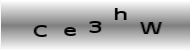3: (88, 19, 102, 33)
C: (33, 24, 48, 37)
W: (139, 20, 163, 35)
e: (63, 24, 79, 39)
h: (113, 6, 129, 21)
